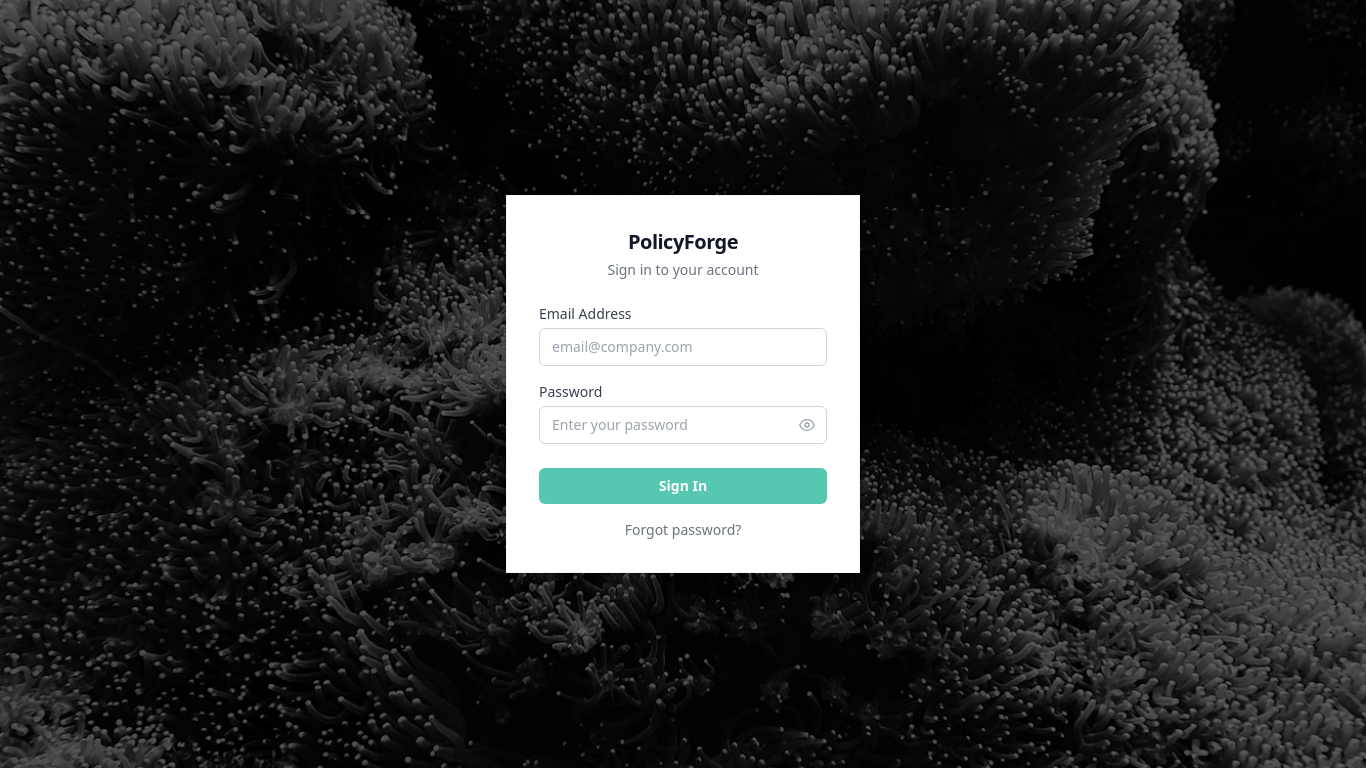
it: LoginPage › T-AUTH-LOGIN-R12: shows "Incorrect email or password" on a 401 response
The width and height of the screenshot is (1366, 768).
Type "wrong@example.com" into the field labelled "Email Address" at (683, 347), box x1=539 y1=328 x2=827 y2=366
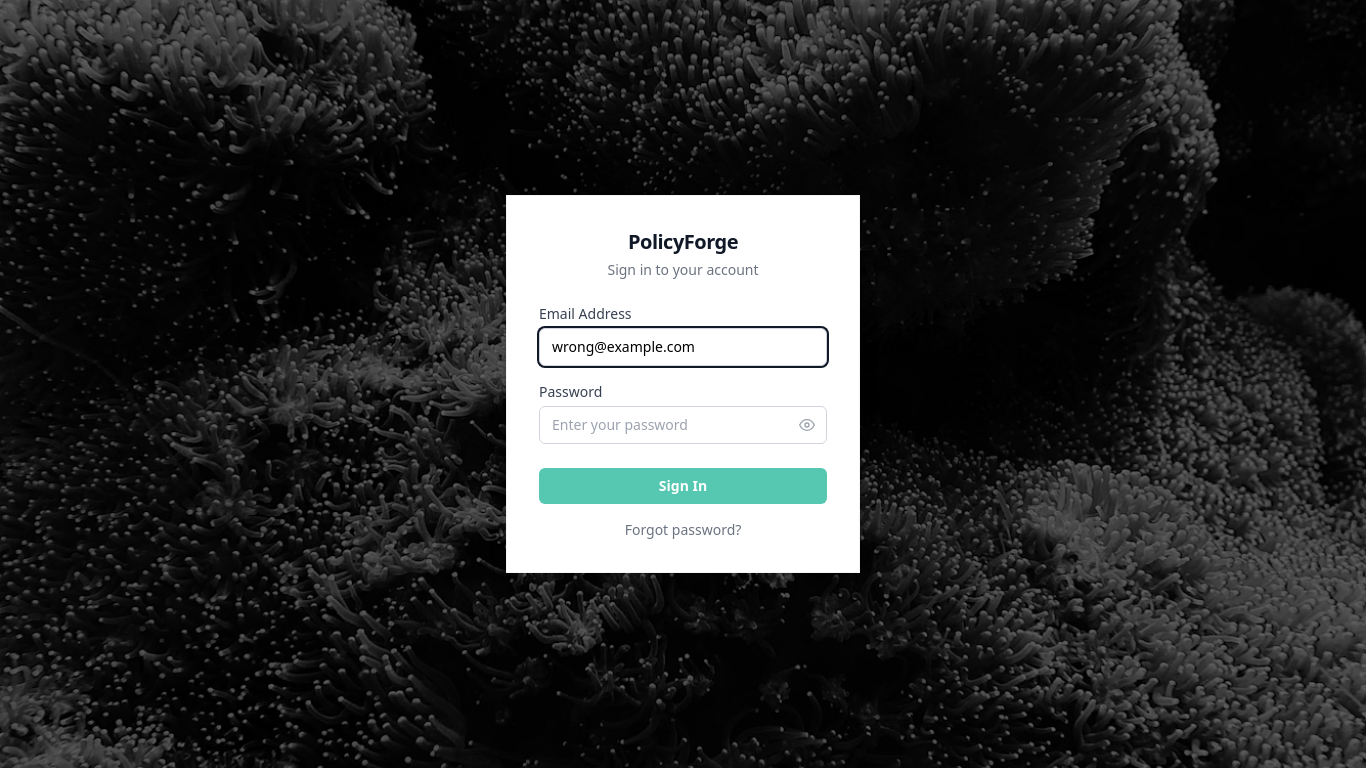
Type "wrongpassword" into the password field labelled "Password" at (683, 425), box x1=539 y1=406 x2=827 y2=444
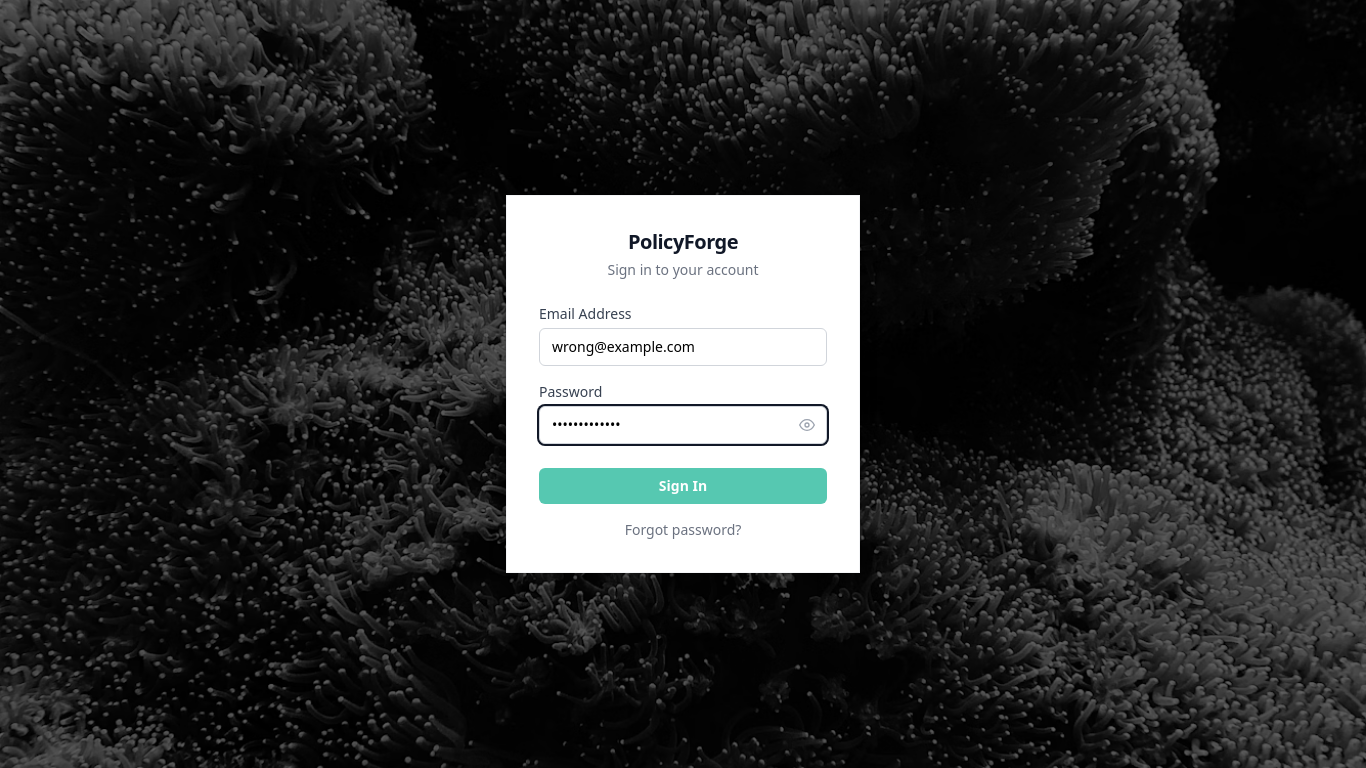
Click the button "Sign In" at (683, 486), box x1=539 y1=468 x2=827 y2=504
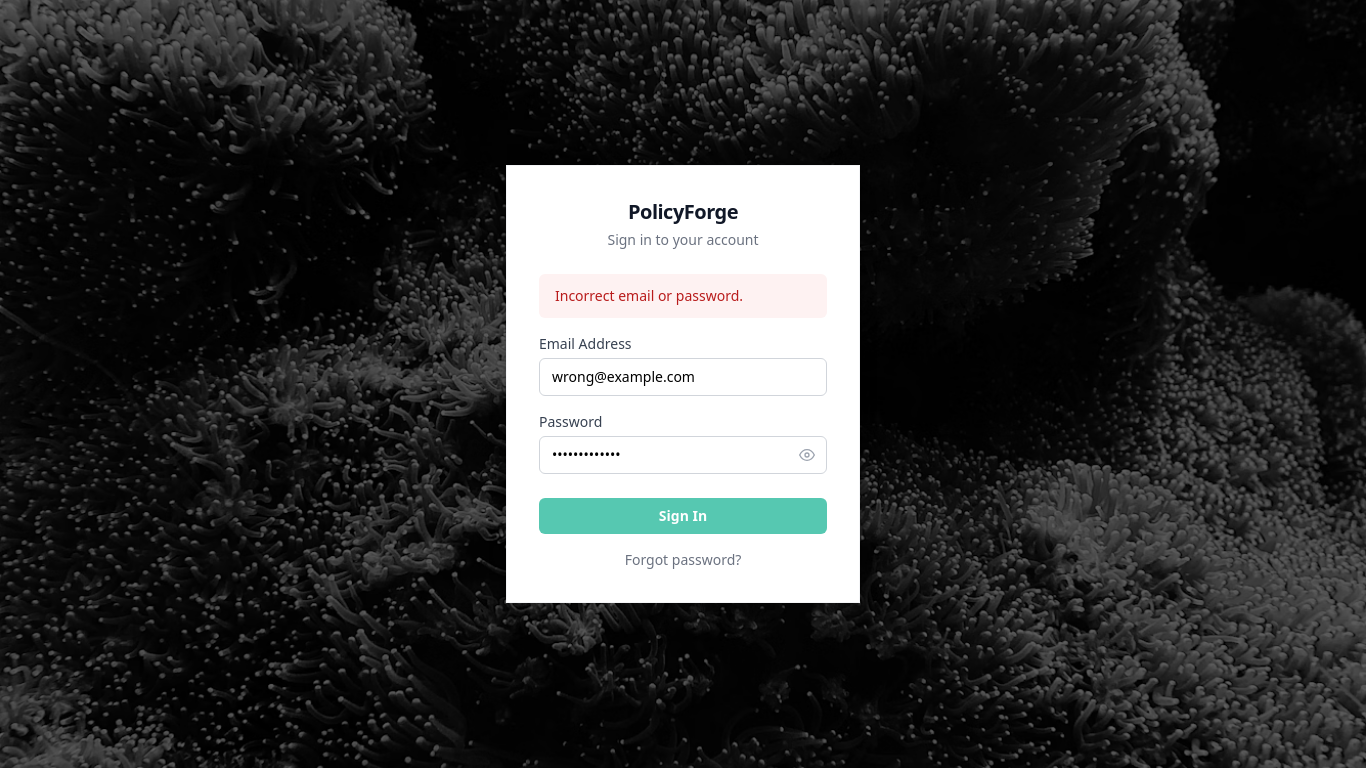
Now the message shows "Incorrect email or password", box x1=555 y1=286 x2=743 y2=305
